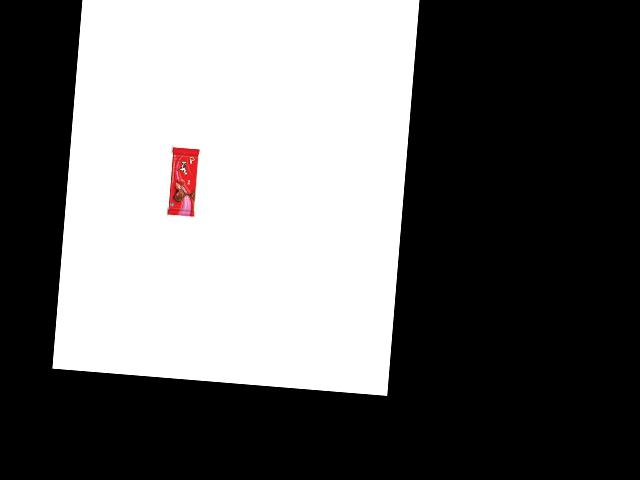chocolate: (162, 141, 199, 217)
